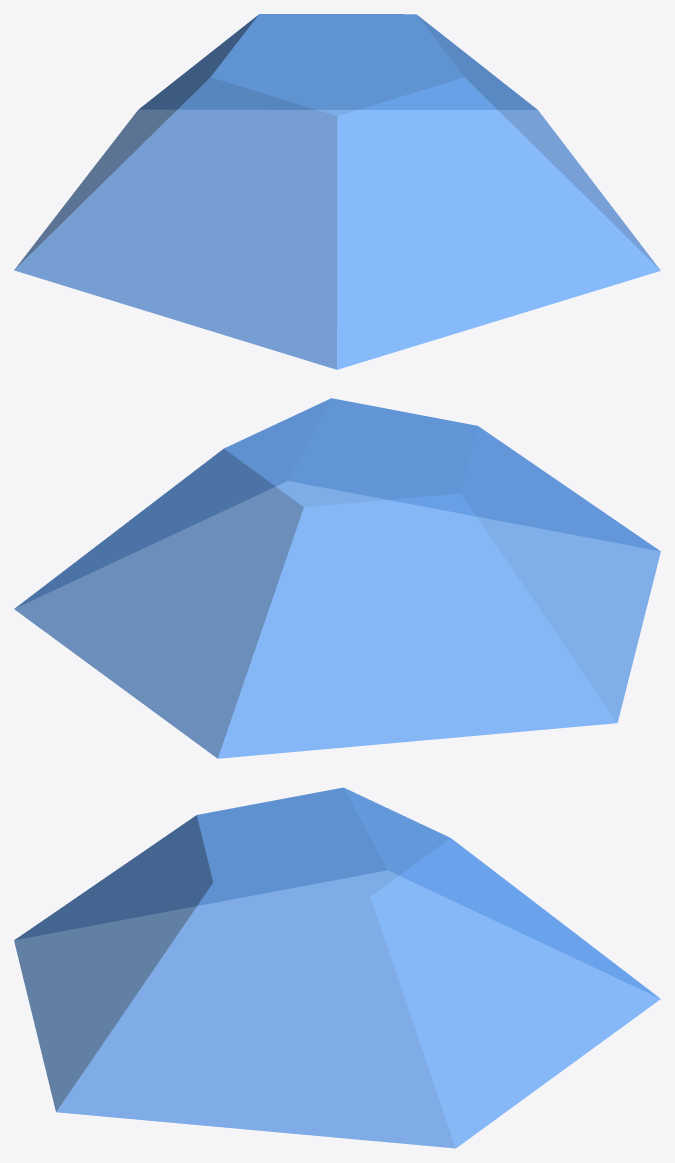
The model's file is gem1.fbx.
3 views of the same model, one above another, from view 1: azimuth 30°, elevation 25°; view 2: azimuth 150°, elevation 25°; view 3: azimuth 270°, elevation 25° (orthographic). The views are drawn at different scales.
Parts seen in each view (by area): view 1: Crystals_s_01; view 2: Crystals_s_01; view 3: Crystals_s_01.
Part boxes in pixels (box(x1,y1,x2,y2)): Crystals_s_01: box(14, 14, 660, 369); Crystals_s_01: box(14, 398, 660, 758); Crystals_s_01: box(14, 787, 660, 1148).
Bounding box in the file's own units: 16.62 × 4.74 × 16.34.
